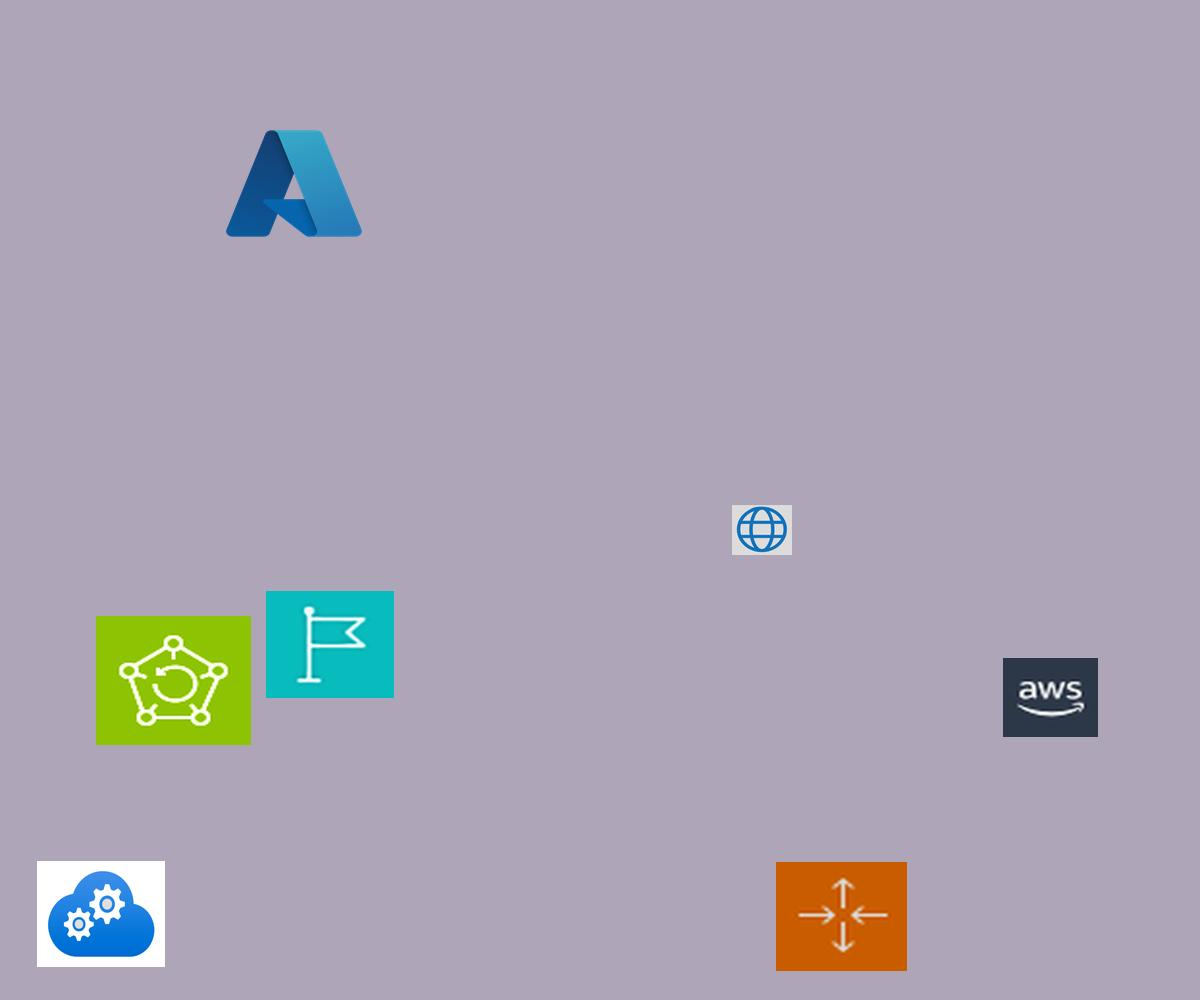AWS-Backup: (96, 616, 251, 745)
AWS-Cloud-logo: (1003, 658, 1098, 737)
AWS-Region: (266, 591, 394, 698)
AWS-Scaling-group: (776, 862, 907, 971)
Azure_cloud_services: (37, 861, 165, 967)
Azure_http: (732, 505, 792, 555)
Azure_services: (220, 122, 368, 245)
